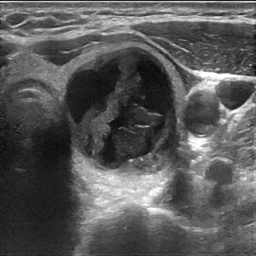mass: (64, 45, 179, 169)
